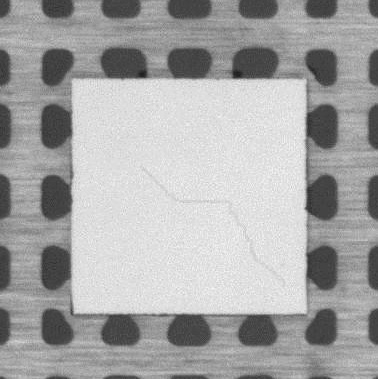DIE_CRACK: (143, 167, 283, 290)
